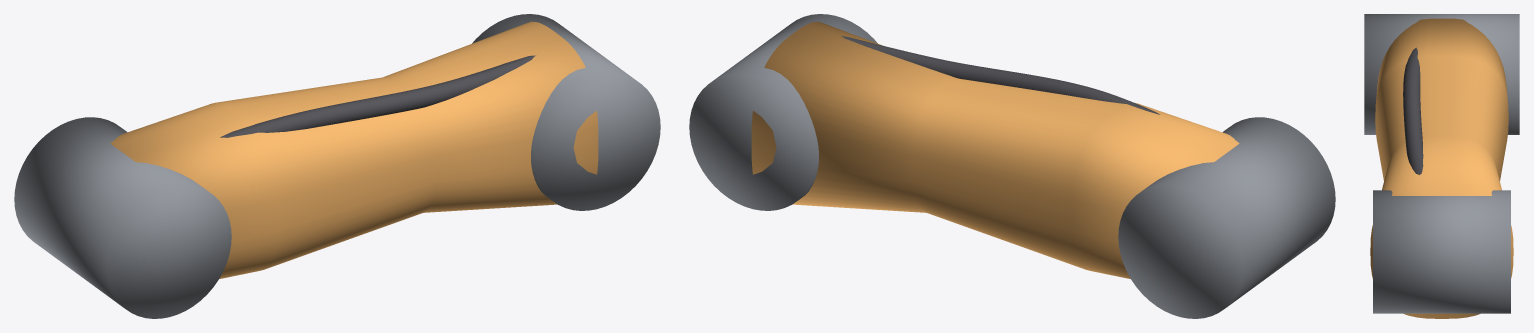
File: upper-arm.glb
3 renders of one model, left to right at view 1: azimuth 30°, elevation 25°; view 2: azimuth 150°, elevation 25°; view 3: azimuth 270°, elevation 25°, orthographic. The views are drawn at different scales.
Parts seen in each view (by area): view 1: world; view 2: world; view 3: world.
Part boxes in pixels (x1,y1,x2,y2): world: (14, 14, 660, 318); world: (689, 14, 1335, 318); world: (1364, 14, 1519, 318).
Bounding box in the file's own units: 0.439 × 0.12 × 0.126.
